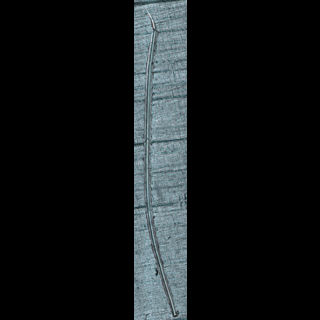d: (141, 5, 180, 317)
